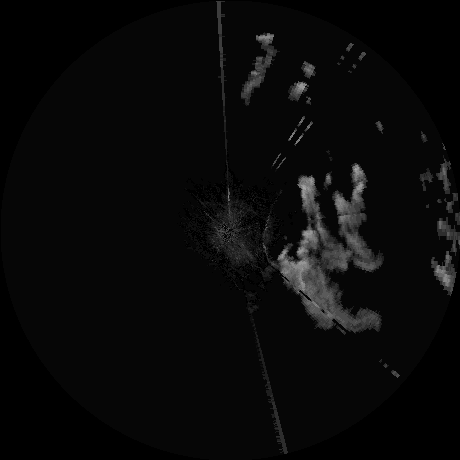frontgust: (260, 214, 280, 269)
